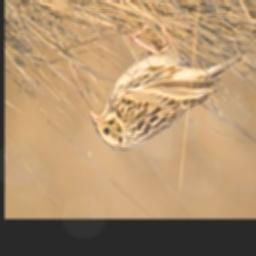Sparrow: (85, 20, 245, 152)
